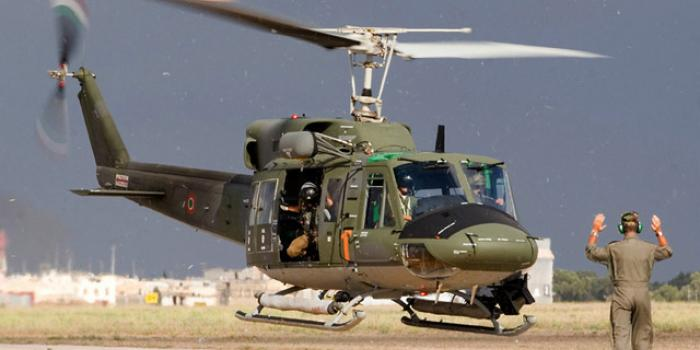MilitaryHelicopter: (55, 25, 547, 305)
